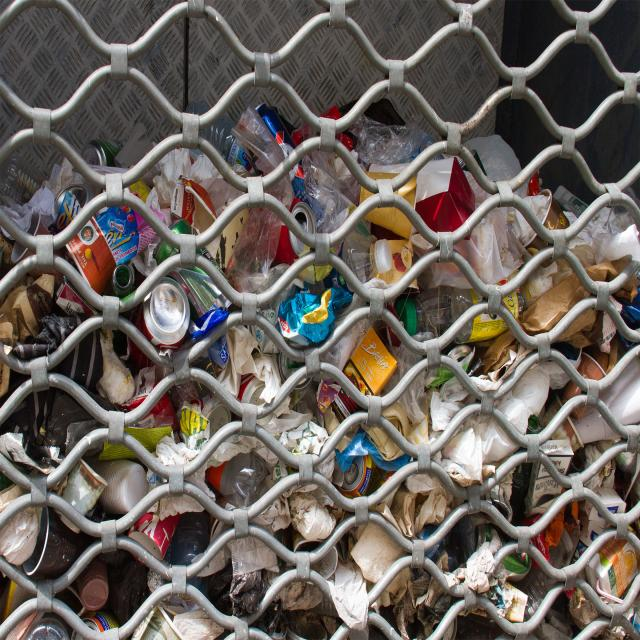metal: (150, 288, 196, 343)
plastic: (300, 182, 350, 234), (92, 452, 138, 503)
